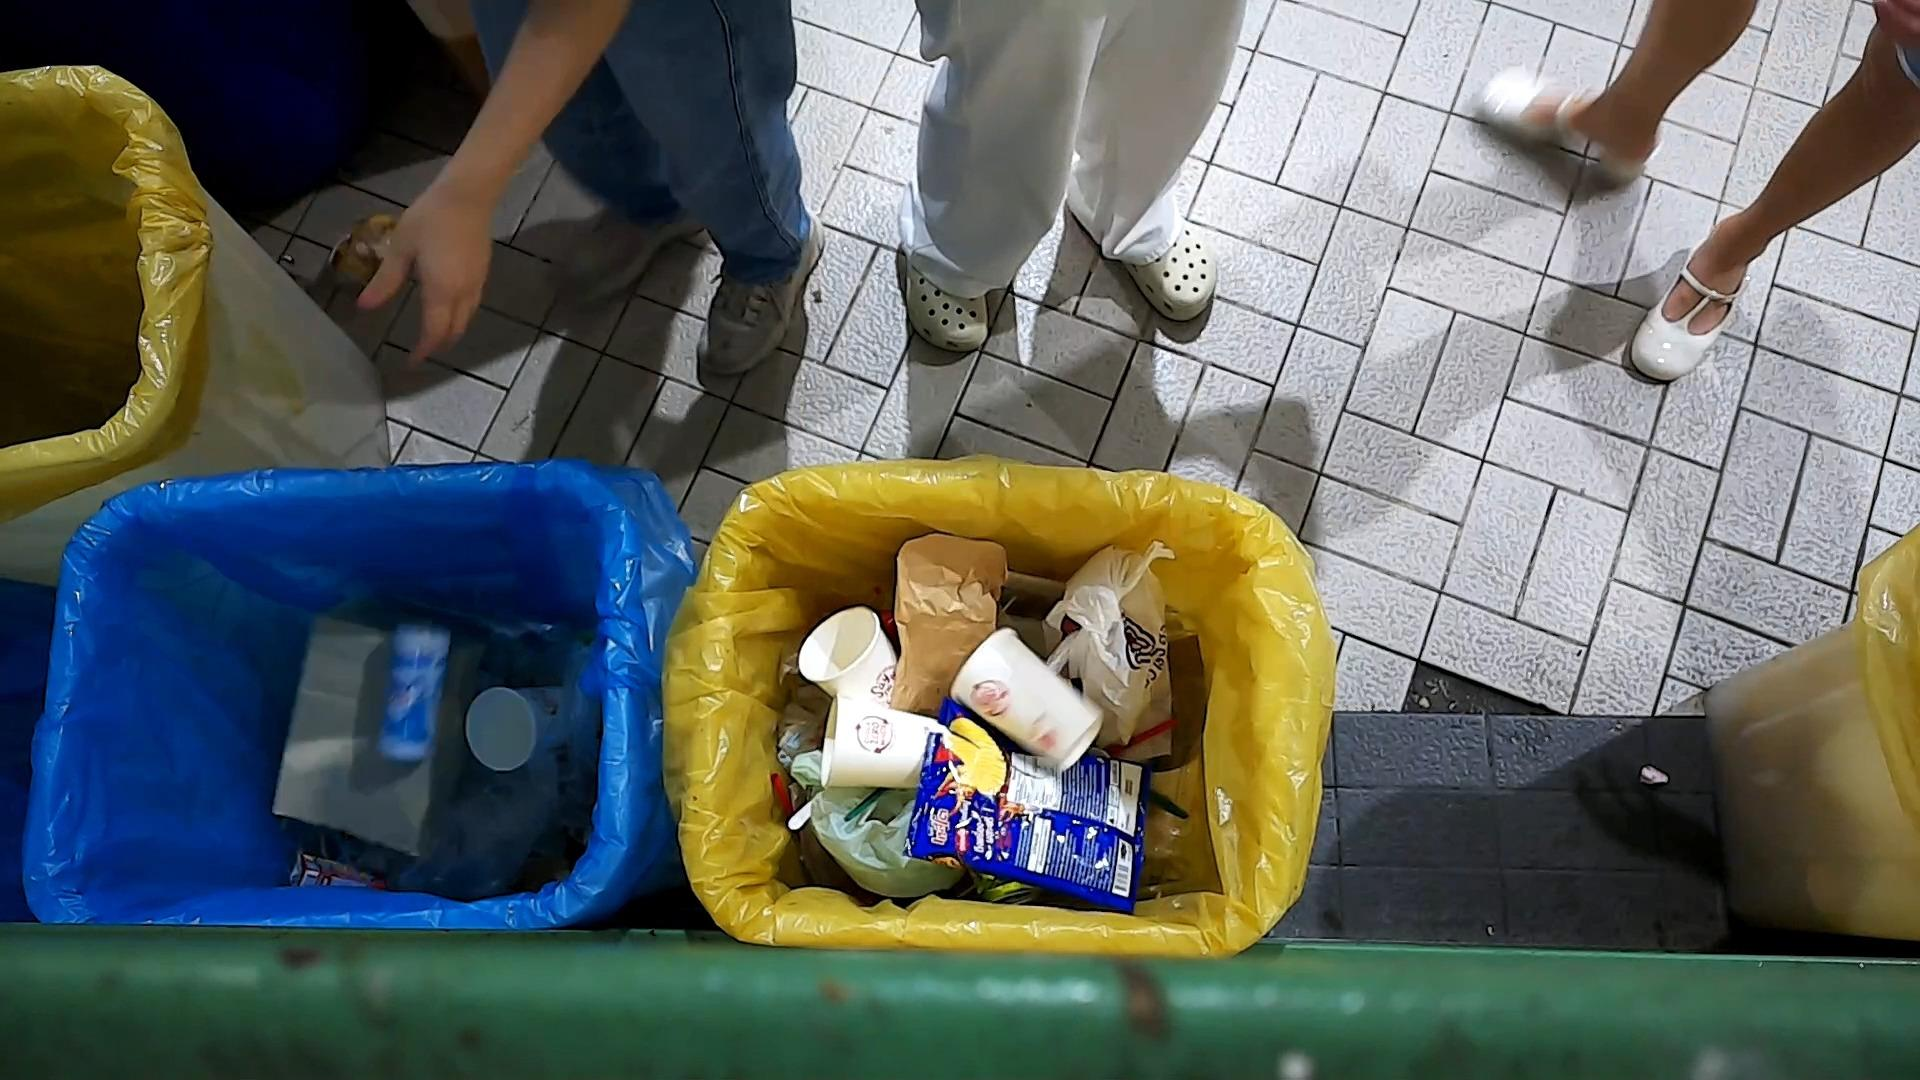can: (369, 616, 458, 770)
filled plastic bag: (1038, 538, 1179, 765), (789, 745, 973, 901)
milk carton: (289, 843, 394, 891)
paper bag: (274, 599, 492, 858), (889, 531, 1011, 717)
plastic bag: (398, 735, 570, 905)
snack packaging: (899, 694, 1155, 918)
zero waste cup: (945, 621, 1110, 778), (815, 691, 943, 794), (459, 680, 583, 777), (795, 603, 899, 707)
